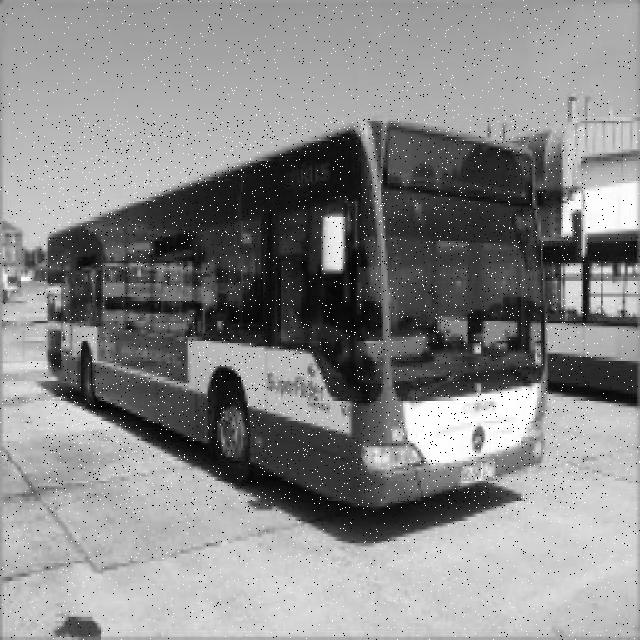Bus: (43, 114, 589, 510)
